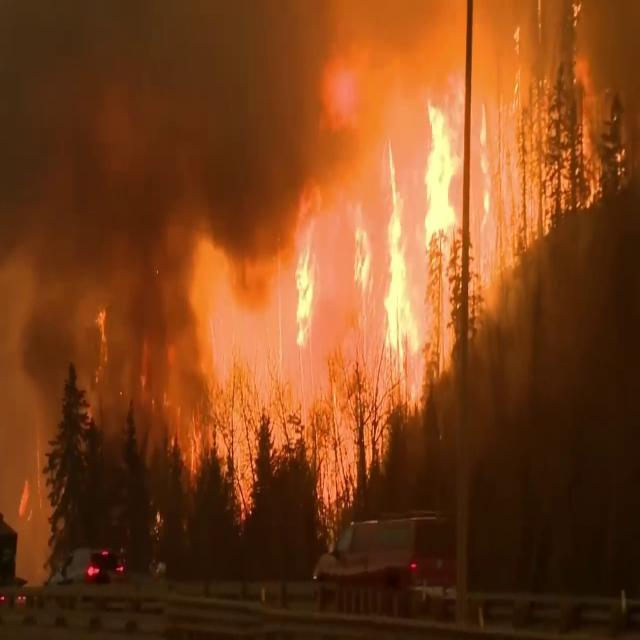Fire: (233, 11, 619, 468)
Smoke: (0, 0, 371, 421)
